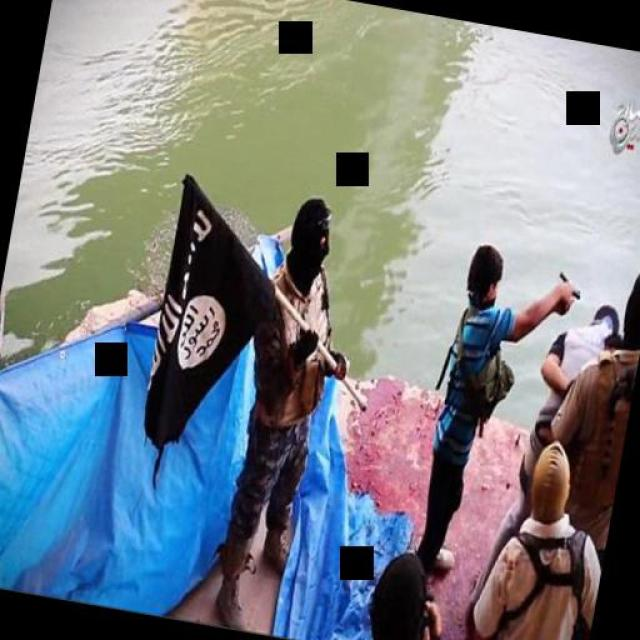gun: (551, 269, 585, 319)
